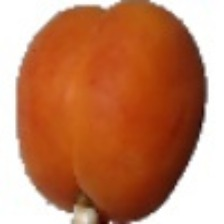apricot: (32, 17, 206, 217)
